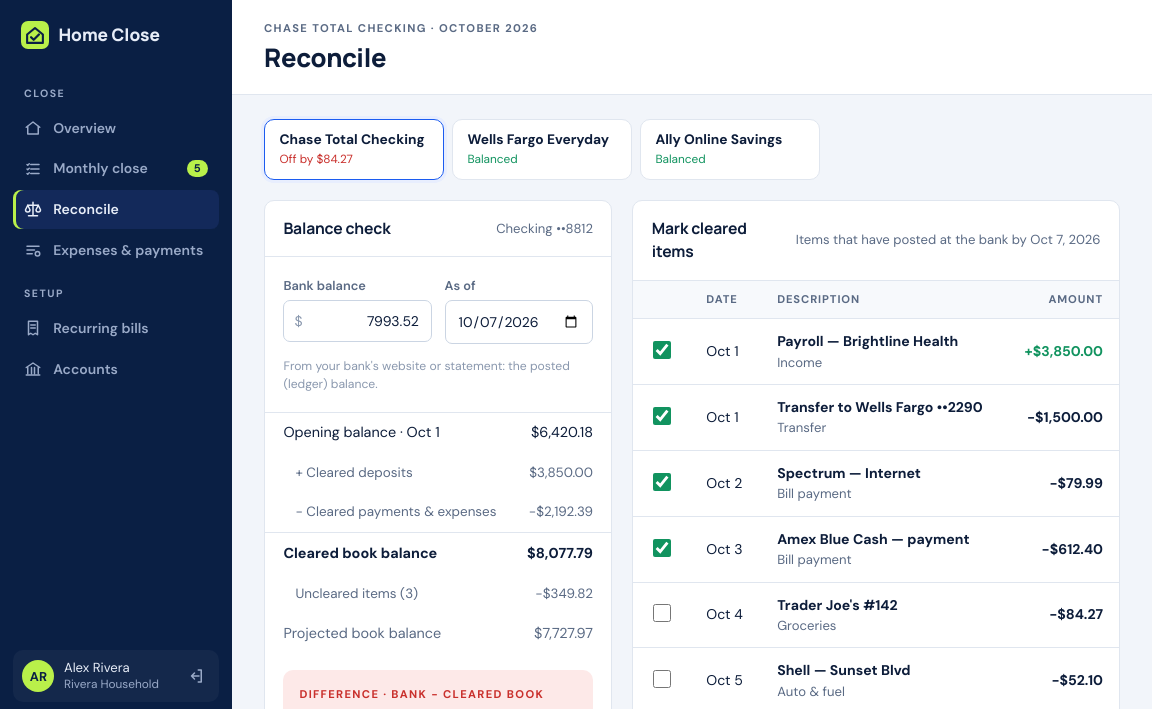
reconcile › ticking a cleared item updates the difference live and allows sign-off at $0.00
Click the checkbox named "Cleared: Trader Joe's #142": click(662, 613) top-left (653, 604), bottom-right (671, 622)
(page scrolled)
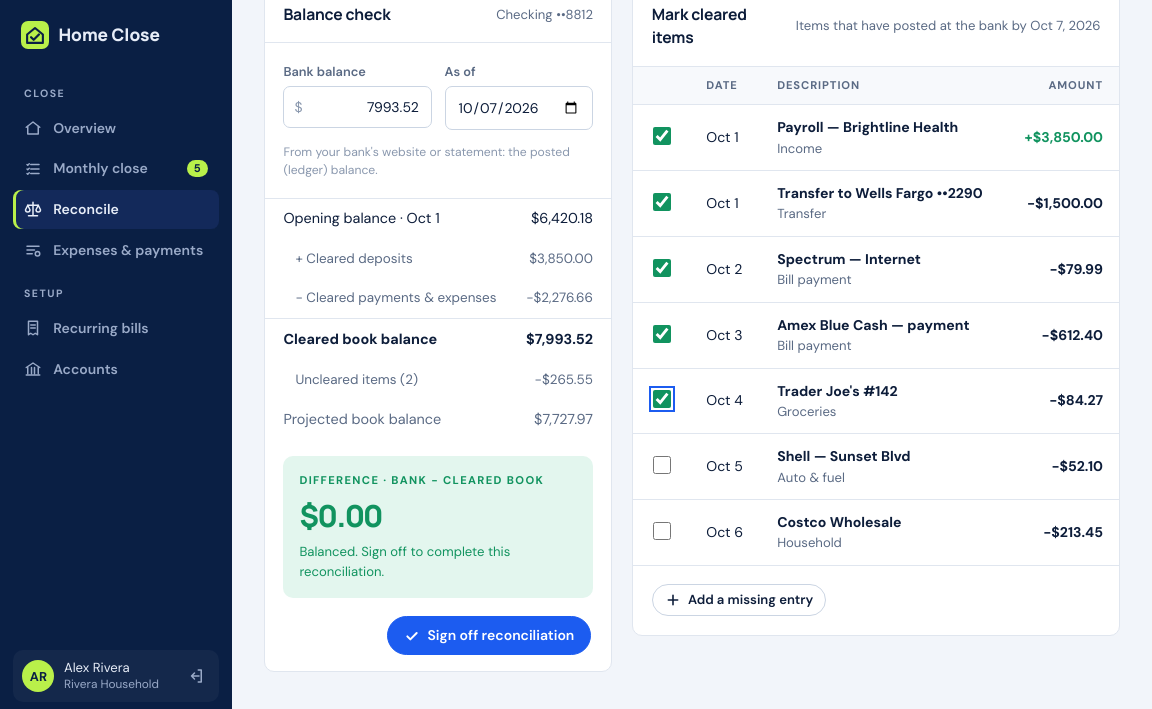
Expected: the text with test id "difference" reads "$0.00", top-left (299, 495), bottom-right (382, 536)
Expected: the button "Sign off reconciliation" is enabled
Click the button "Sign off reconciliation": click(489, 636) top-left (387, 616), bottom-right (591, 655)
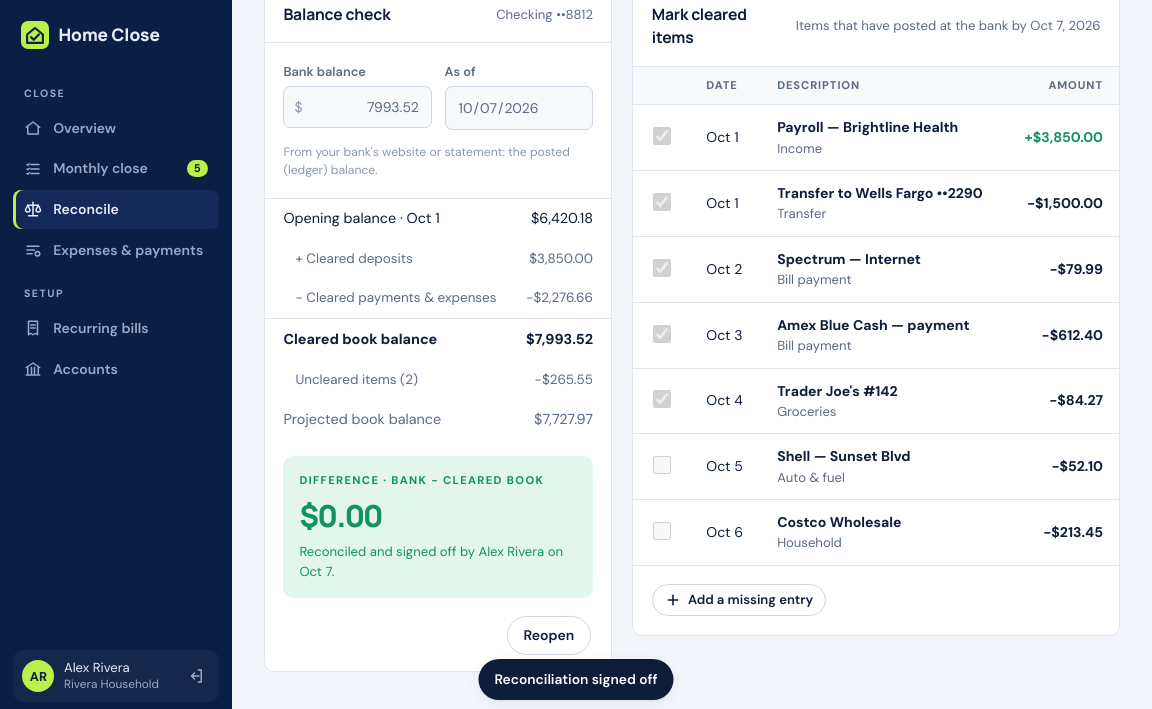
Expected: the text "Reconciliation signed off" is shown, top-left (478, 659), bottom-right (674, 700)
Expected: the text "Reconciled and signed off by Alex Rivera on Oct 7." is shown, top-left (299, 542), bottom-right (577, 582)
Expected: the checkbox named "Cleared: Shell — Sunset Blvd" is disabled, top-left (653, 456), bottom-right (671, 474)
Click the button "Reopen": click(549, 636) top-left (506, 616), bottom-right (591, 655)
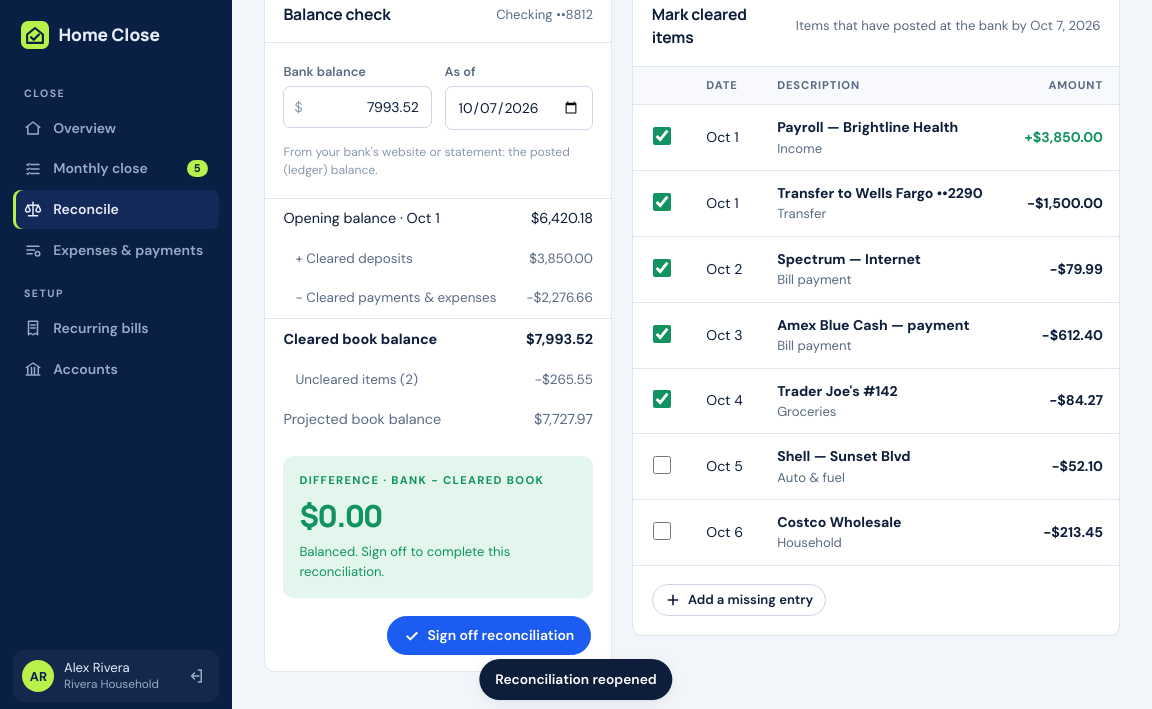
Expected: the text "Reconciliation reopened" is shown, top-left (479, 659), bottom-right (673, 700)
Expected: the field labelled "Bank balance" is enabled, top-left (283, 86), bottom-right (432, 128)
